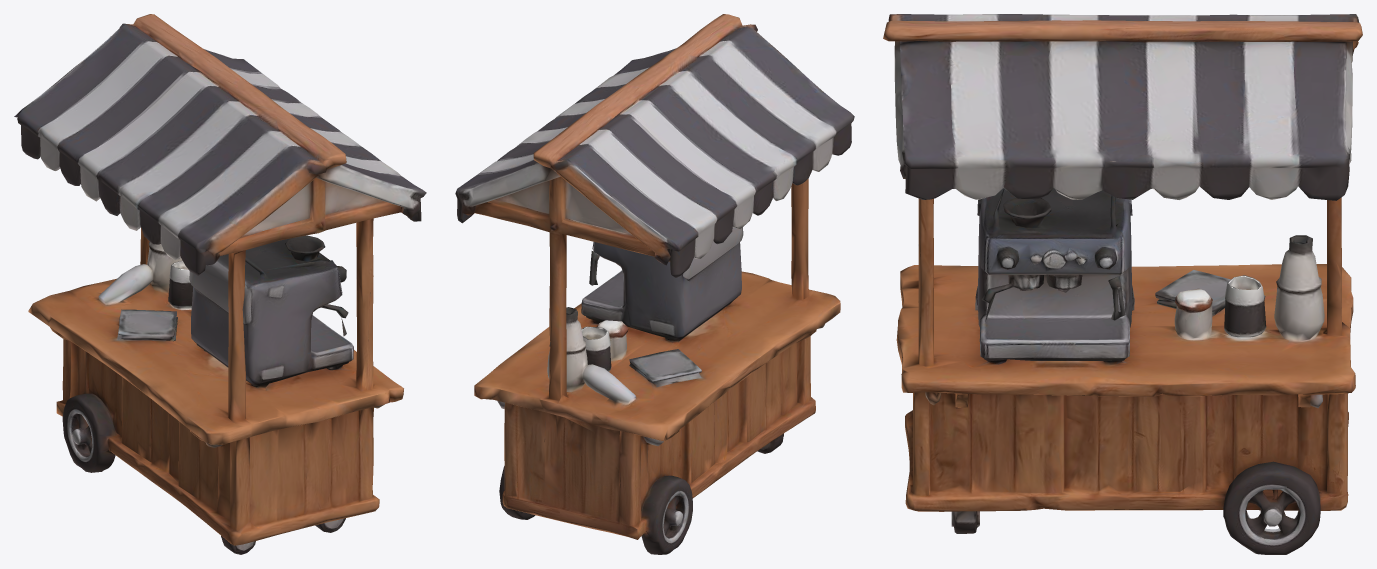
Rendered from cafe_cart.glb.
3 views of the same model, side by side, from view 1: azimuth 30°, elevation 25°; view 2: azimuth 150°, elevation 25°; view 3: azimuth 270°, elevation 25° (orthographic). The views are drawn at different scales.
Parts seen in each view (by area): view 1: tripo_node_f86ed29f-a983-4072-8d34-3c1c8715e7f3; view 2: tripo_node_f86ed29f-a983-4072-8d34-3c1c8715e7f3; view 3: tripo_node_f86ed29f-a983-4072-8d34-3c1c8715e7f3.
Boxes of the visible parts, x1,y1,x2,y2 form: tripo_node_f86ed29f-a983-4072-8d34-3c1c8715e7f3: (14,14,426,554); tripo_node_f86ed29f-a983-4072-8d34-3c1c8715e7f3: (455,14,854,554); tripo_node_f86ed29f-a983-4072-8d34-3c1c8715e7f3: (883,14,1362,554).
Bounding box in the file's own units: 0.5908 × 1 × 0.8705.
1 material, 1 textured.
